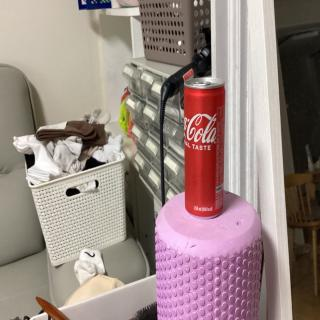cocacola: (179, 74, 230, 222)
